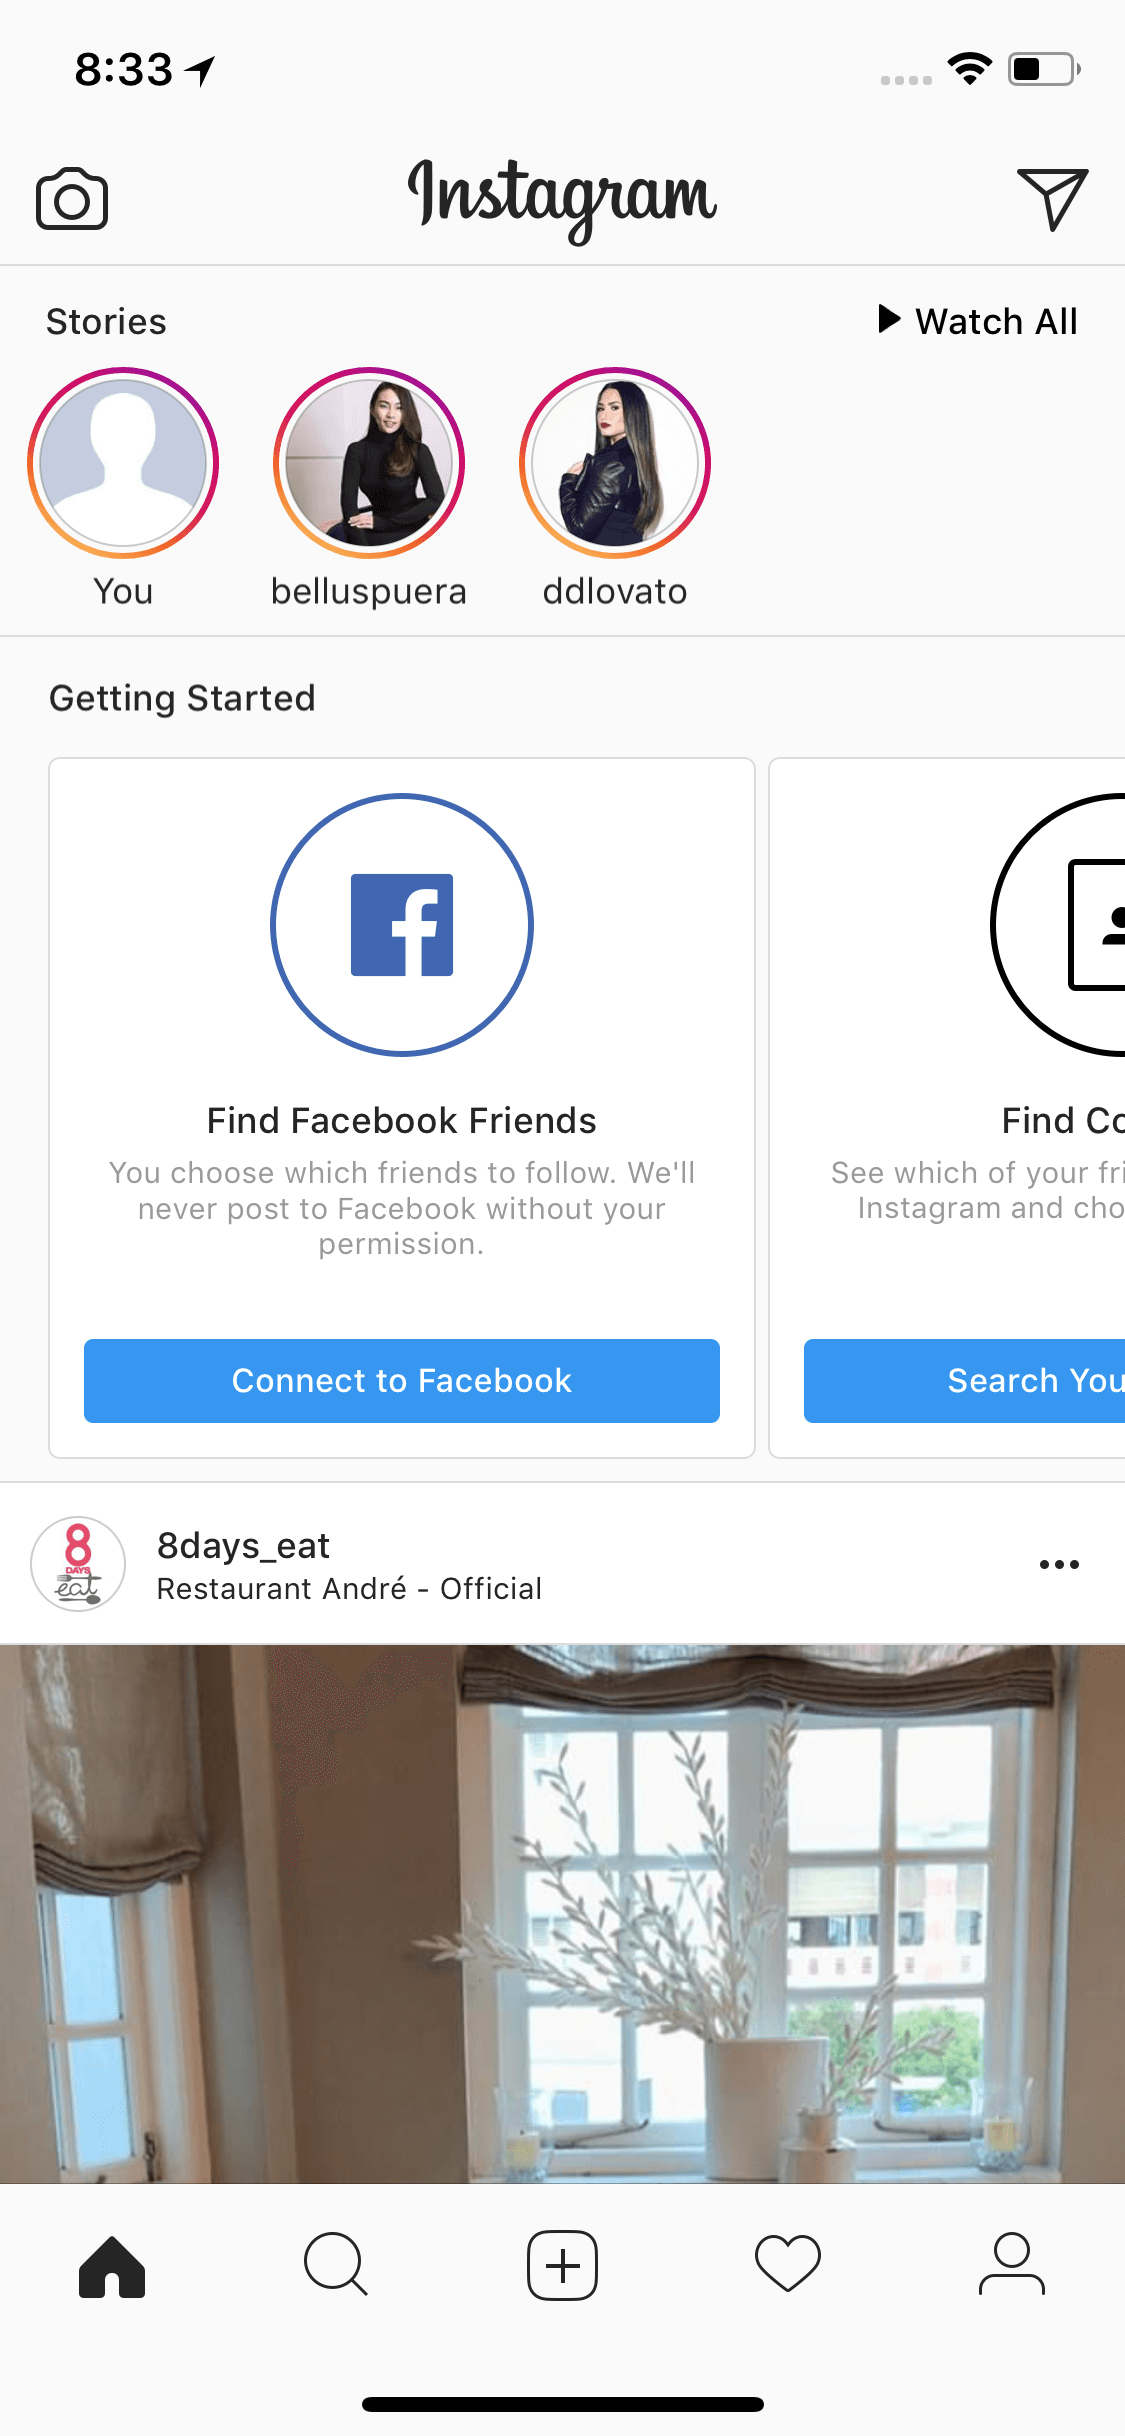Buttons: (75, 1321, 729, 1440), (792, 1328, 1125, 1442), (9, 137, 138, 263), (993, 134, 1103, 256)
